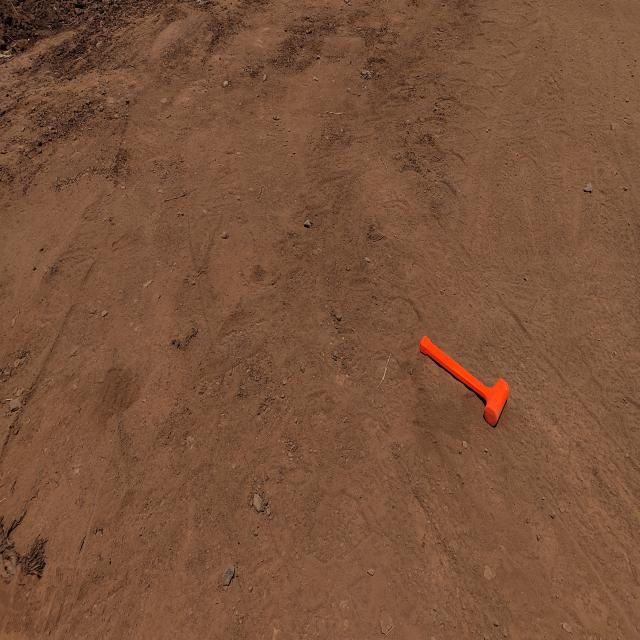Orange_hammer: (419, 333, 509, 428)
